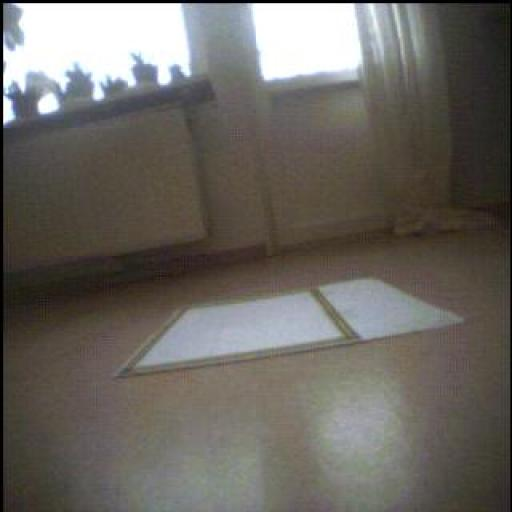Pad: (120, 279, 464, 377)
